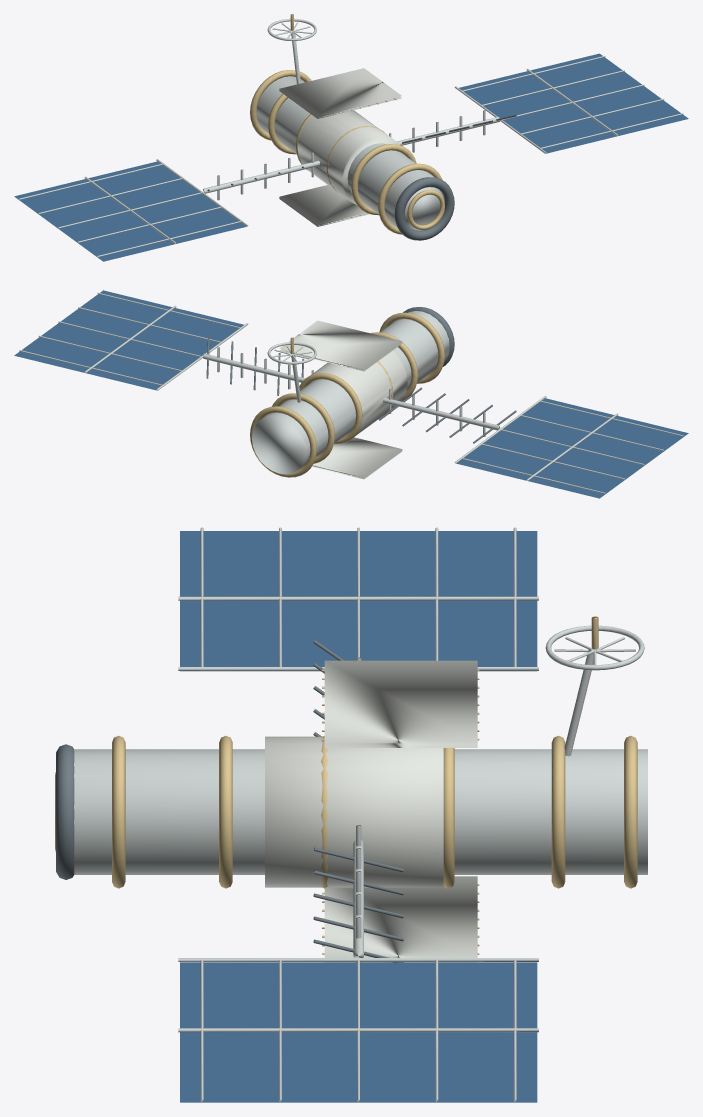
The model's file is janus_station.glb.
The picture shows the model from 3 angles, top to bottom: view 1: azimuth 30°, elevation 25°; view 2: azimuth 150°, elevation 25°; view 3: azimuth 270°, elevation 25°; orthographic projection. The views are drawn at different scales.
Parts seen in each view (by area): view 1: solar_painel_-1_1, solar_painel_1_1, solar_painel_-1_0, solar_painel_1_0, nucleo_pressurizado, arquivo_blindado, radiador_1, radiador_-1, porta_docking, aneis_estruturais_1.56, aneis_estruturais_2.82, aneis_estruturais_-3.2 (+4 smaller); view 2: nucleo_pressurizado, solar_painel_-1_1, solar_painel_1_1, solar_painel_-1_0, solar_painel_1_0, radiador_1, arquivo_blindado, radiador_-1, aneis_estruturais_-3.2, aneis_estruturais_2.82, aneis_estruturais_-1.05, aneis_estruturais_-2.35 (+5 smaller); view 3: nucleo_pressurizado, solar_painel_1_1, arquivo_blindado, solar_painel_1_0, solar_painel_-1_1, solar_painel_-1_0, radiador_1, radiador_-1, porta_docking, aneis_estruturais_-2.35, aneis_estruturais_-3.2, aneis_estruturais_1.56 (+7 smaller).
Boxes of the visible parts, x1,y1,x2,y2 form: solar_painel_-1_1: (14, 179, 174, 261); solar_painel_1_1: (530, 53, 688, 135); solar_painel_-1_0: (88, 161, 246, 243); solar_painel_1_0: (459, 71, 616, 153); nucleo_pressurizado: (256, 76, 444, 230); arquivo_blindado: (297, 110, 399, 204); radiador_1: (279, 68, 401, 118); radiador_-1: (279, 185, 369, 226); porta_docking: (394, 177, 454, 240); aneis_estruturais_1.56: (351, 144, 416, 215); aneis_estruturais_2.82: (378, 163, 442, 234); aneis_estruturais_-3.2: (250, 70, 311, 140); nucleo_pressurizado: (252, 311, 449, 474); solar_painel_-1_1: (528, 416, 688, 498); solar_painel_1_1: (14, 290, 172, 372); solar_painel_-1_0: (456, 398, 614, 480); solar_painel_1_0: (86, 308, 243, 390); radiador_1: (279, 320, 402, 371); arquivo_blindado: (311, 351, 407, 435); radiador_-1: (312, 437, 402, 479); aneis_estruturais_-3.2: (250, 406, 316, 477); aneis_estruturais_2.82: (379, 312, 444, 383); aneis_estruturais_-1.05: (299, 373, 362, 443); aneis_estruturais_-2.35: (272, 393, 334, 463); nucleo_pressurizado: (74, 749, 647, 874); solar_painel_1_1: (180, 1032, 537, 1102); arquivo_blindado: (265, 736, 443, 887); solar_painel_1_0: (180, 962, 537, 1032); solar_painel_-1_1: (180, 531, 537, 600); solar_painel_-1_0: (180, 601, 537, 671); radiador_1: (324, 660, 477, 747); radiador_-1: (324, 876, 477, 962); porta_docking: (56, 744, 74, 879); aneis_estruturais_-2.35: (551, 735, 565, 888); aneis_estruturais_-3.2: (624, 736, 637, 888); aneis_estruturais_1.56: (219, 736, 232, 888).
Size of the model in its own units: 15.9 by 3.95 by 6.97.
